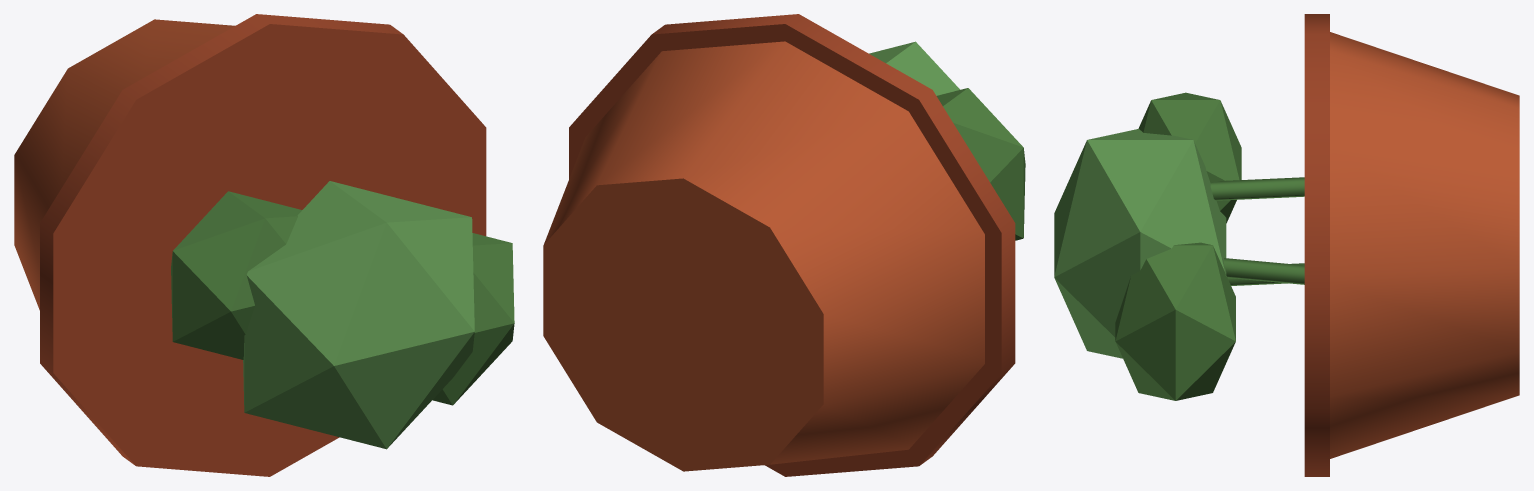
The model's file is flowerpot.glb.
3 views of the same model, side by side, from view 1: azimuth 30°, elevation 25°; view 2: azimuth 150°, elevation 25°; view 3: azimuth 270°, elevation 25° (orthographic). The views are drawn at different scales.
Size of the model in its own units: 1 by 1 by 1.
